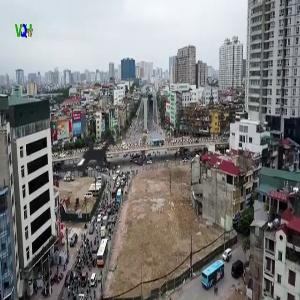drone: (41, 104, 142, 205)
